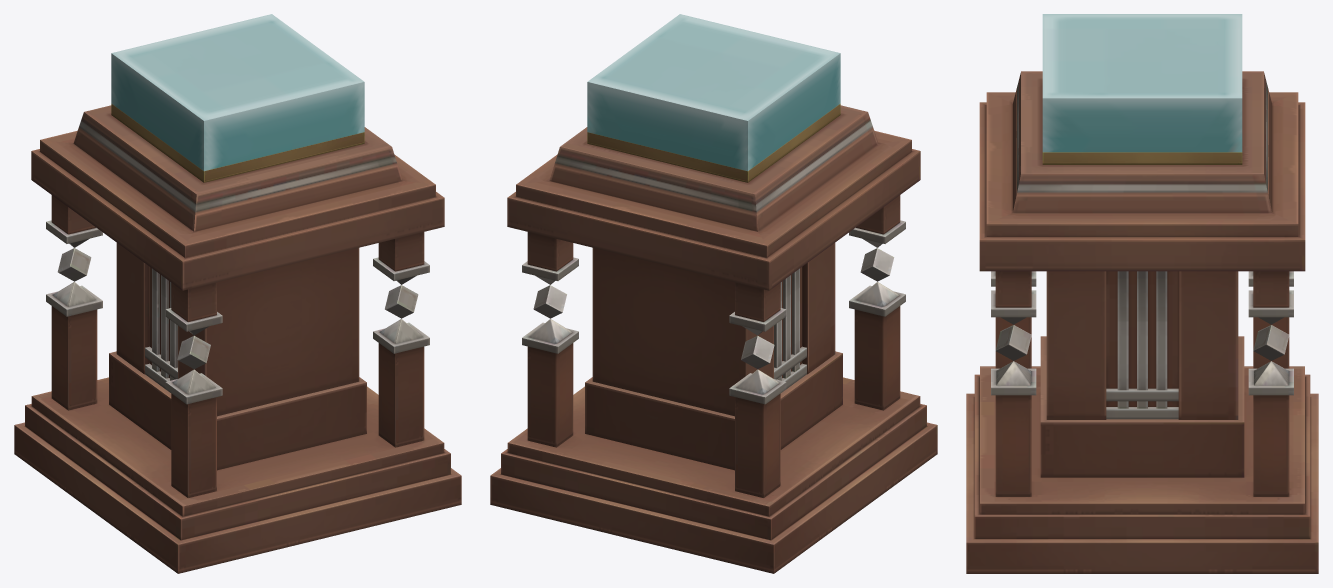
File: my_wildhunt_01_displaystand_05.glb
The picture shows the model from 3 angles, left to right: view 1: azimuth 30°, elevation 25°; view 2: azimuth 150°, elevation 25°; view 3: azimuth 270°, elevation 25°; orthographic projection. The views are drawn at different scales.
Visible parts, largest first — view 1: my_wildhunt_01_displaystand_05.001, my_wildhunt_01_displaystand_05_glass; view 2: my_wildhunt_01_displaystand_05.001, my_wildhunt_01_displaystand_05_glass; view 3: my_wildhunt_01_displaystand_05.001, my_wildhunt_01_displaystand_05_glass.
Part boxes in pixels (x1,y1,x2,y2): my_wildhunt_01_displaystand_05.001: [14, 103, 461, 573]; my_wildhunt_01_displaystand_05_glass: [111, 14, 364, 171]; my_wildhunt_01_displaystand_05.001: [490, 103, 937, 573]; my_wildhunt_01_displaystand_05_glass: [587, 14, 840, 171]; my_wildhunt_01_displaystand_05.001: [966, 71, 1318, 573]; my_wildhunt_01_displaystand_05_glass: [1042, 14, 1242, 152].
Size of the model in its own units: 0.00477 by 0.00662 by 0.00477.
Materials: 2 (2 with a texture image).
